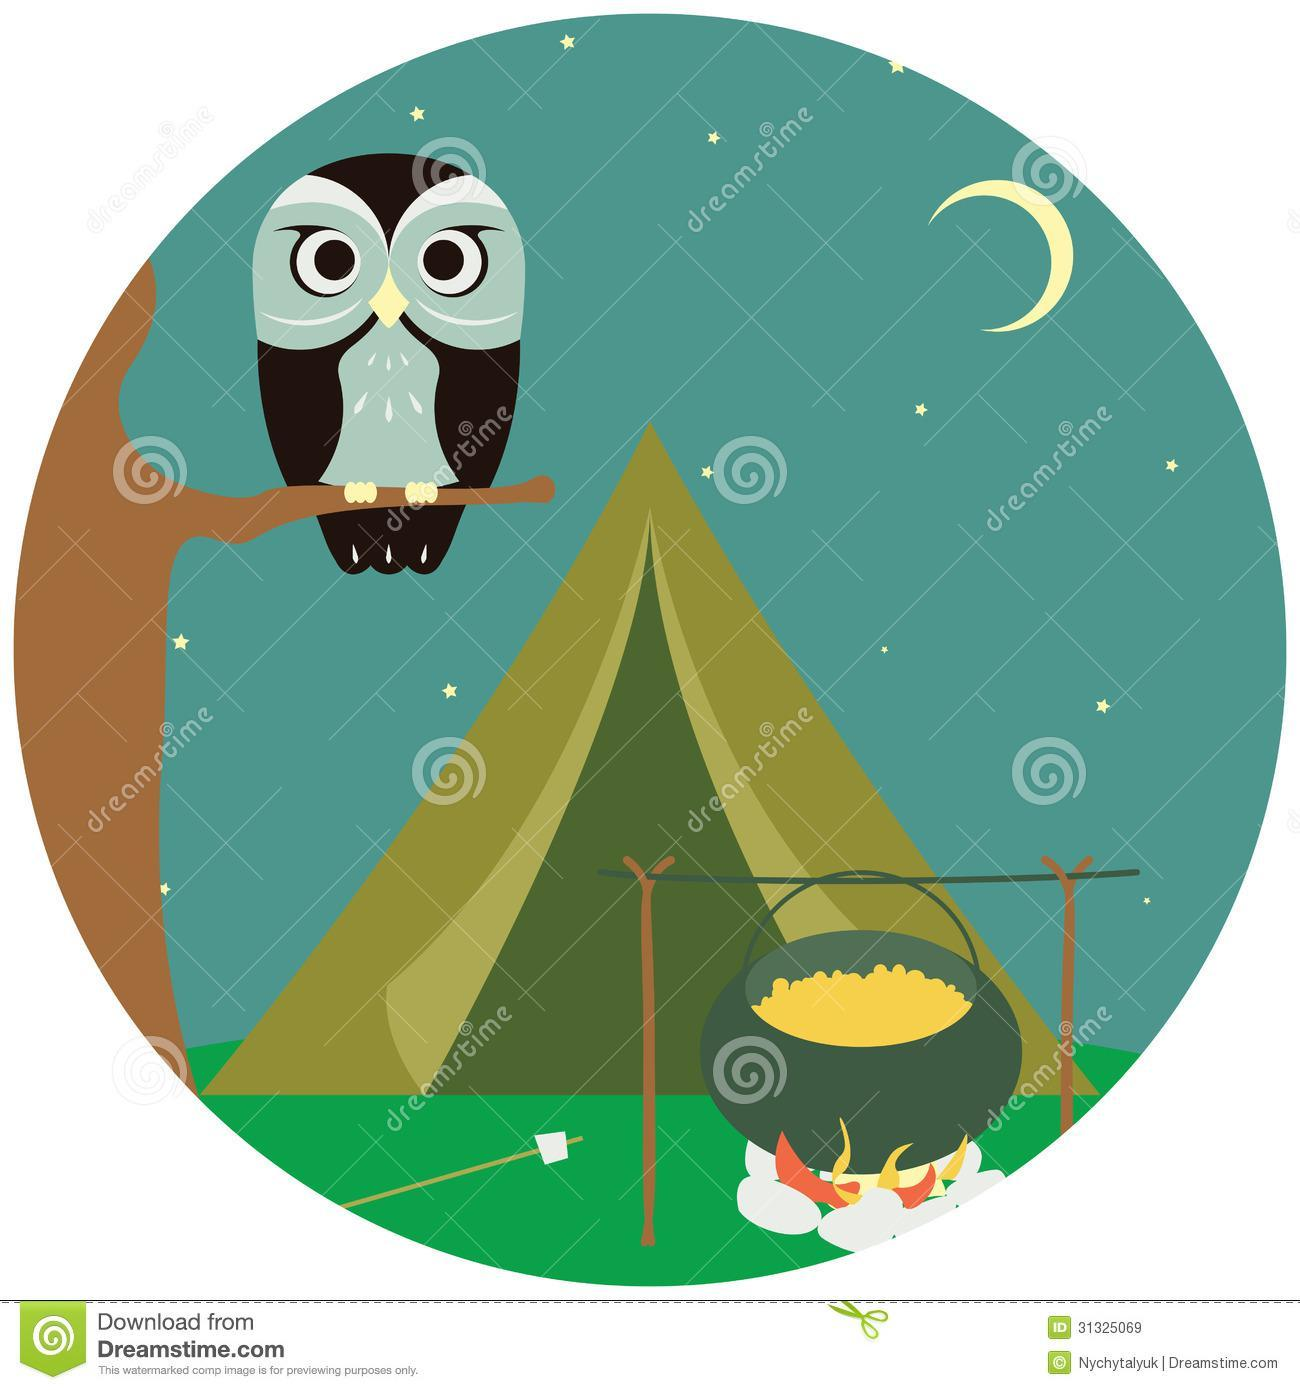bird: (243, 158, 533, 579)
